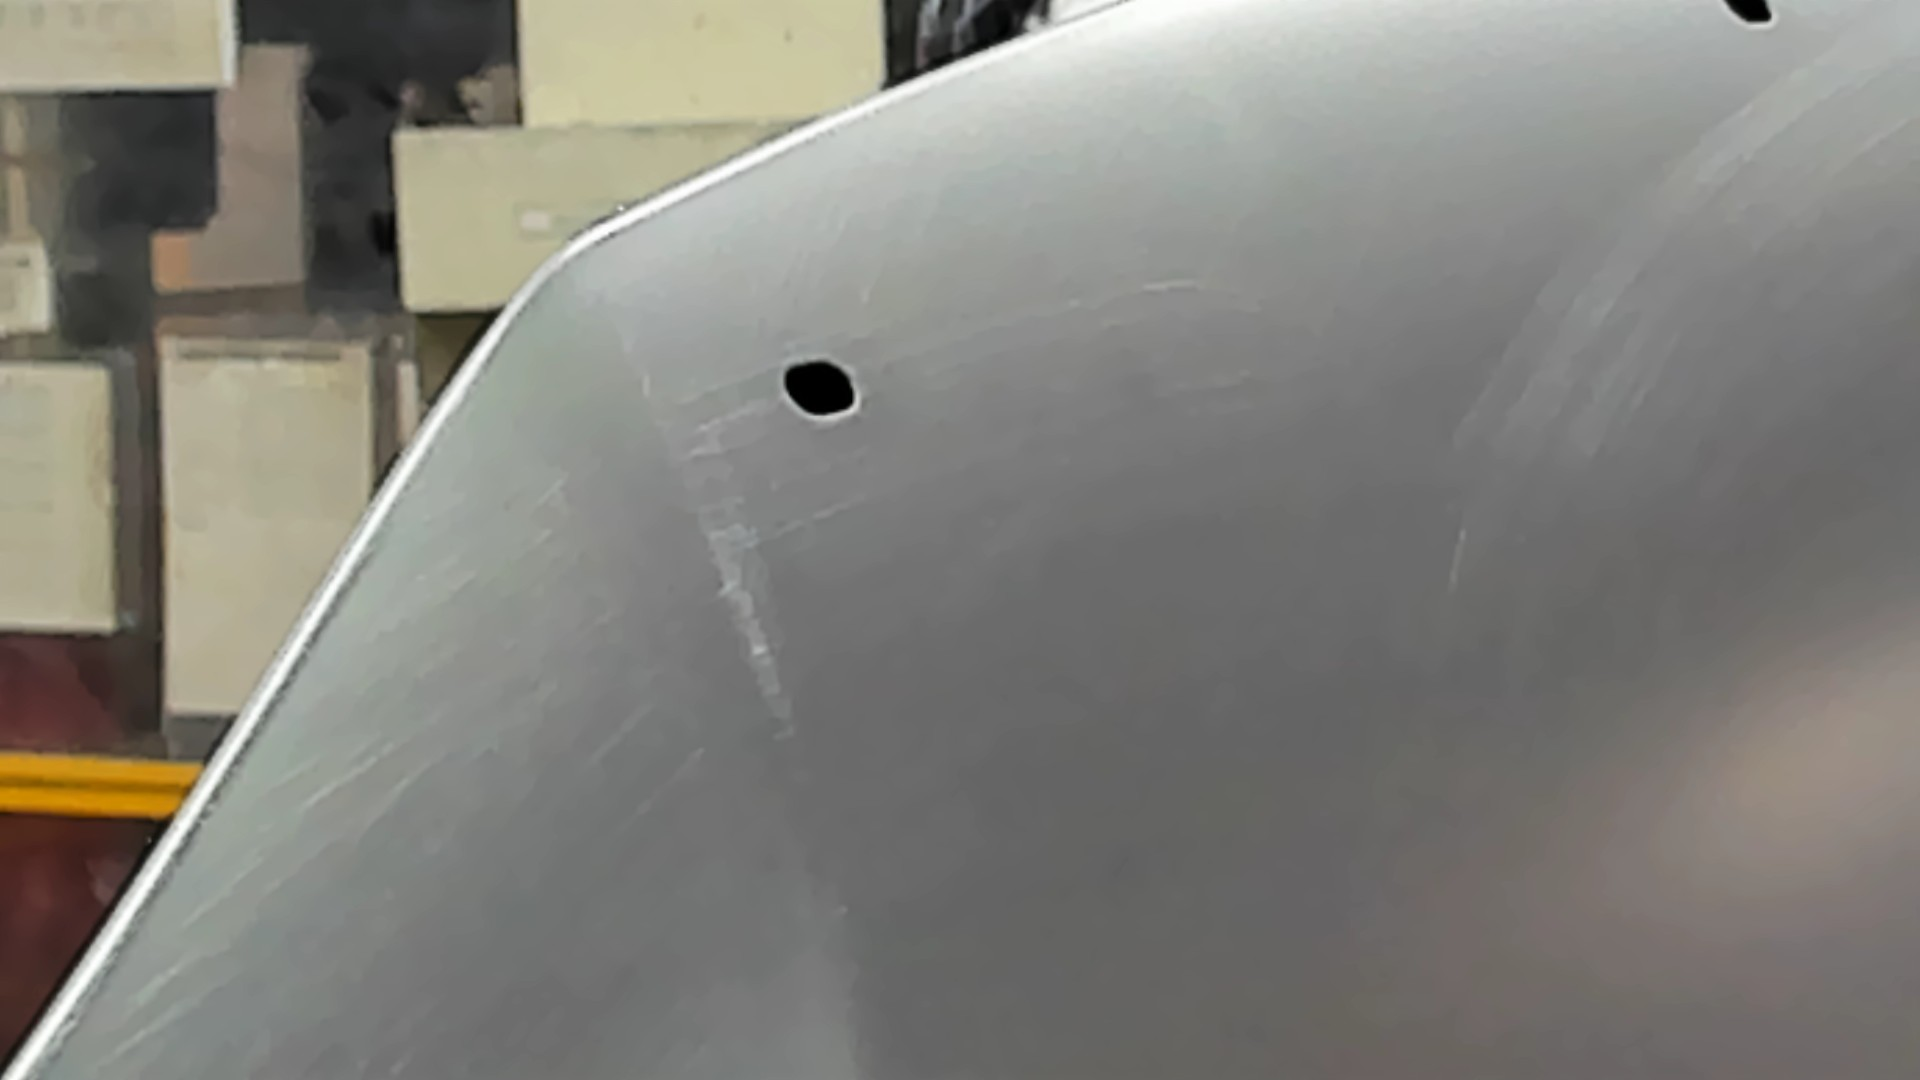amorfo: (777, 353, 868, 425)
capo: (947, 102, 1920, 1080)
